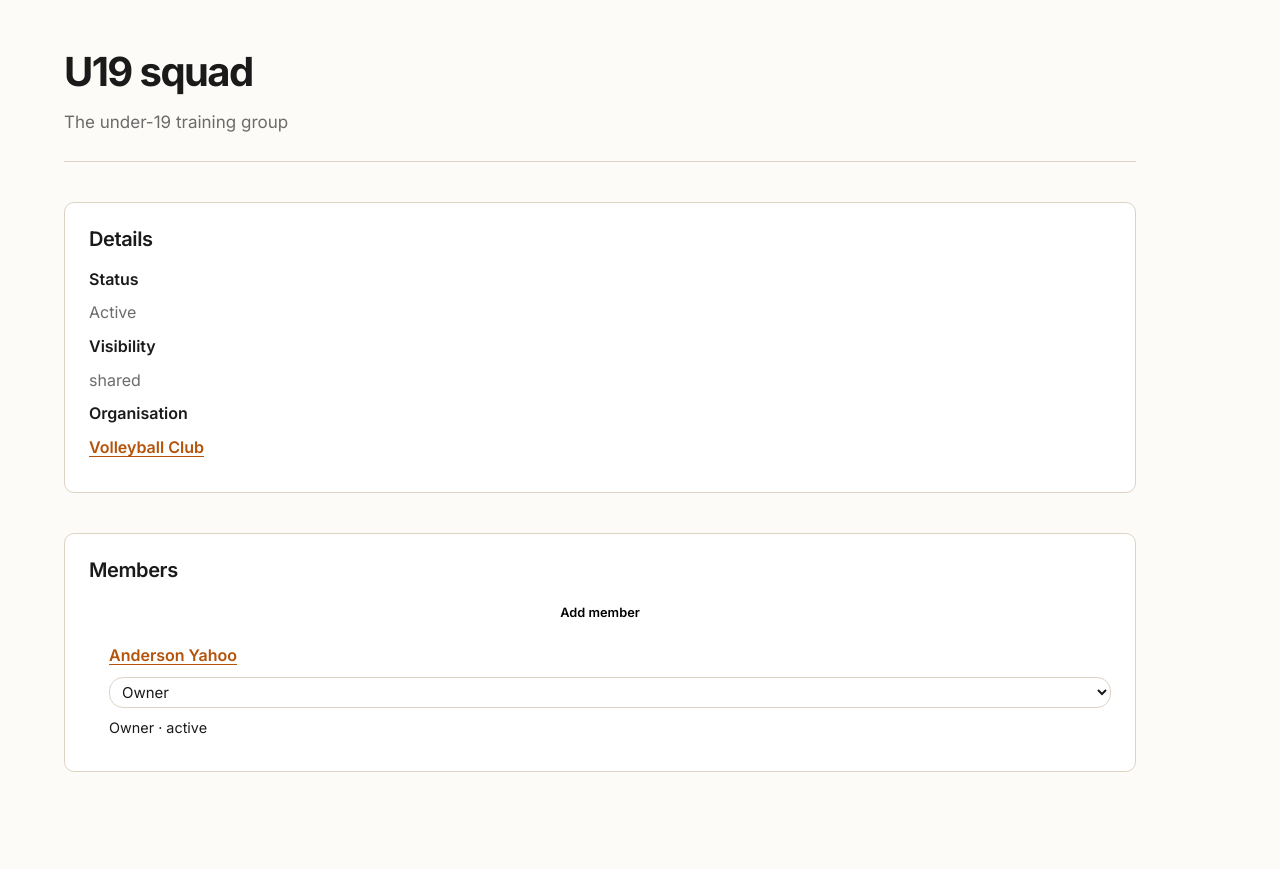
Test: GroupDetail members › searches the organisation roster and adds a member with the chosen role
The image size is (1280, 869).
Click the button "Add member". click: (600, 613)
box: x1=89 y1=598 x2=1111 y2=628
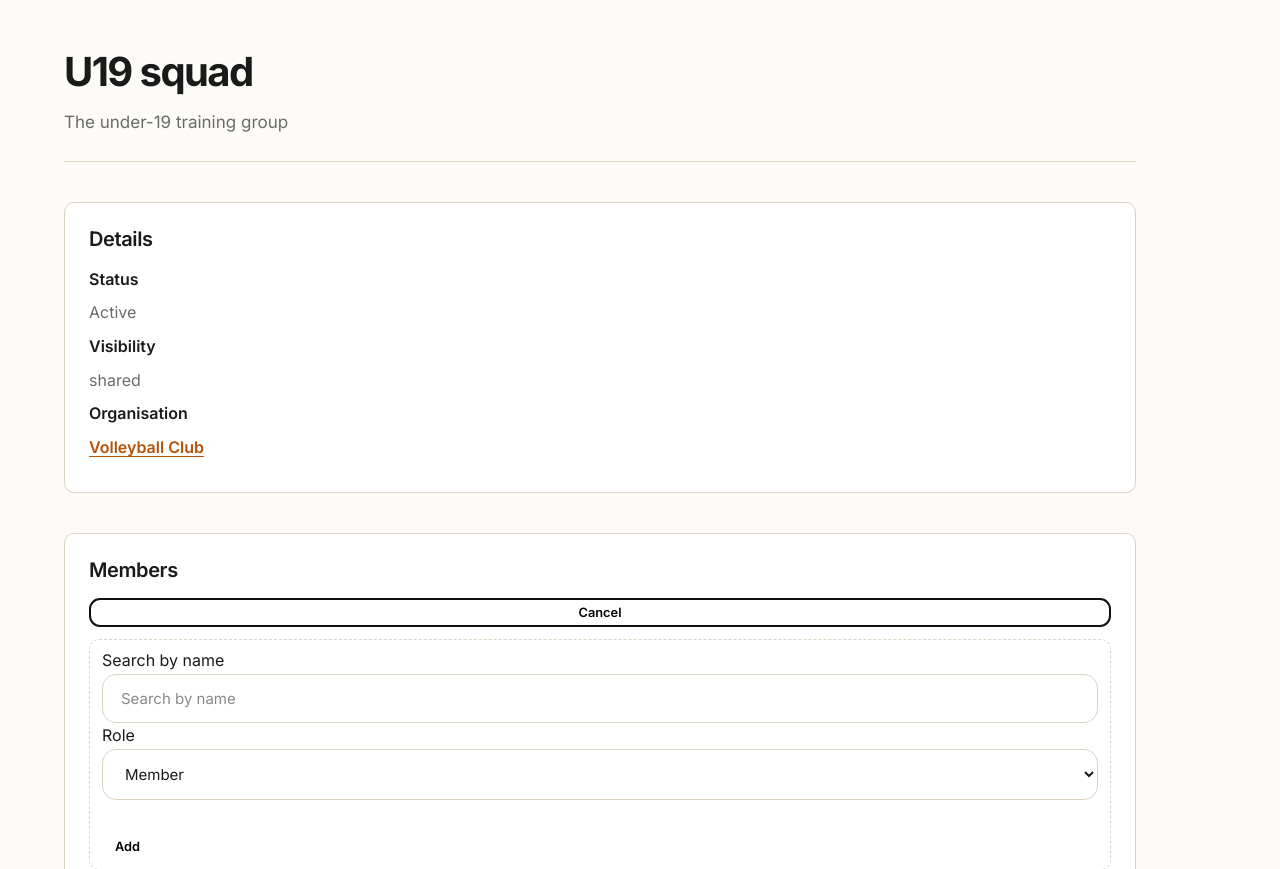
Type "Bru" into the field labelled "Search by name". click: (600, 698)
box: x1=102 y1=674 x2=1098 y2=723
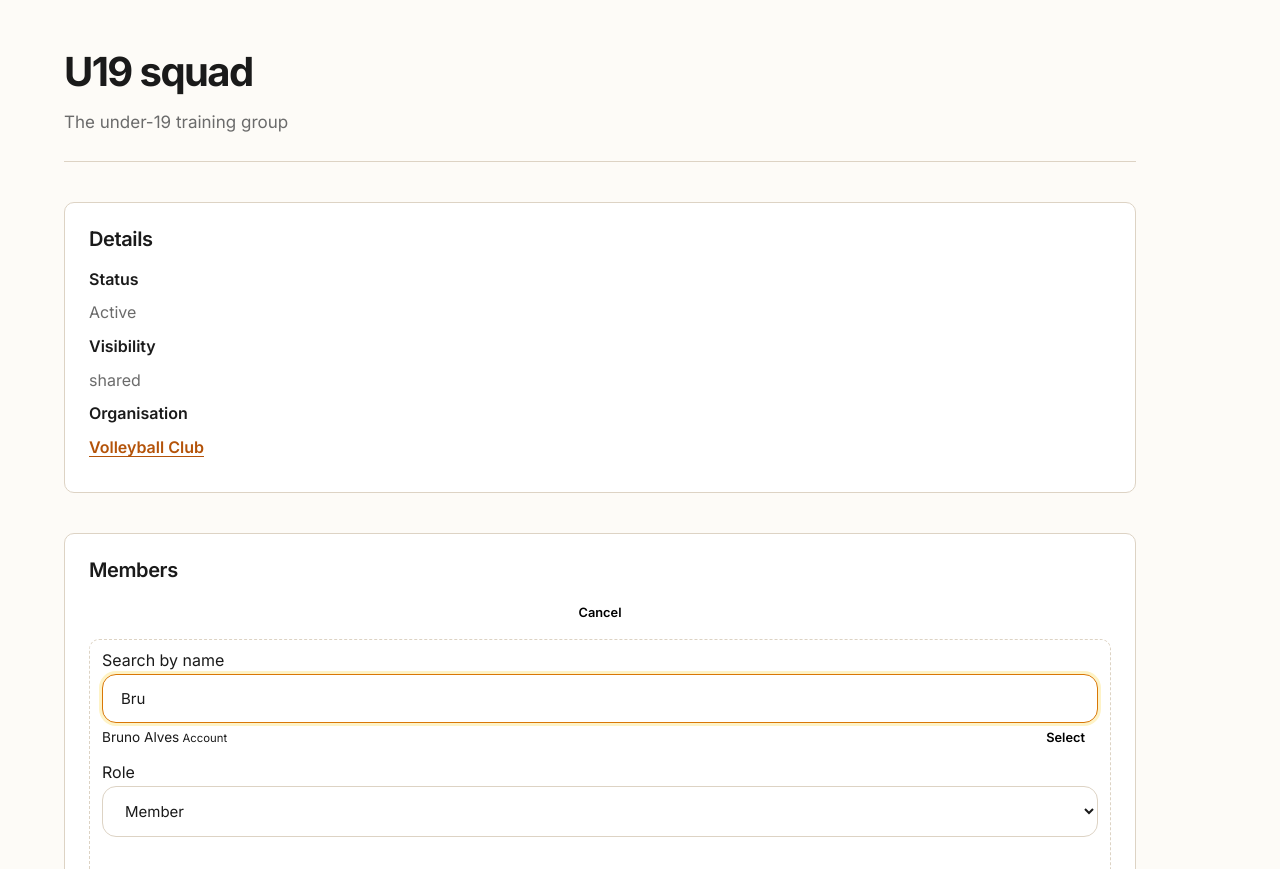
Click the button "Select". click: (1066, 738)
box: x1=1033 y1=723 x2=1098 y2=752
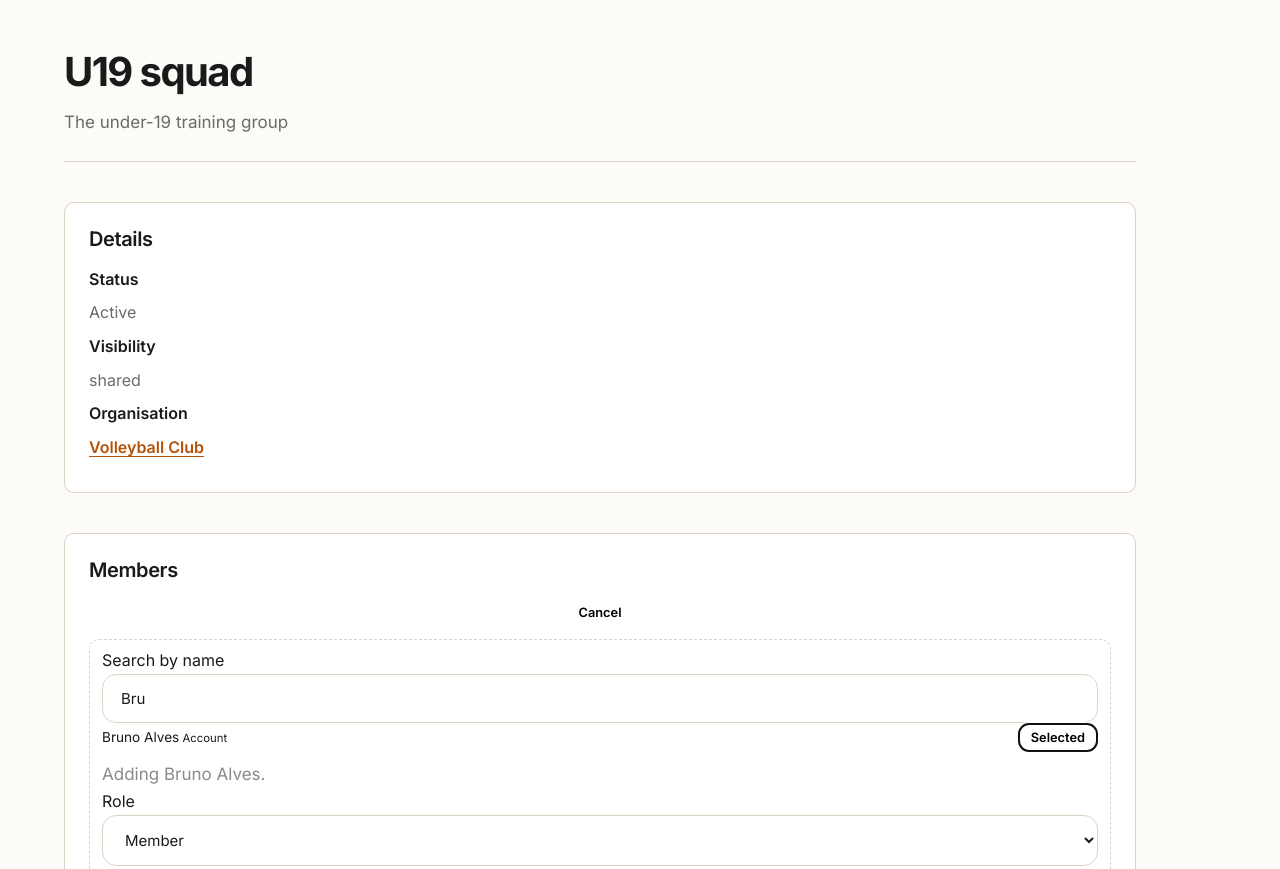
Select "Coach" in the dropdown labelled "Role". click: (600, 840)
box: x1=102 y1=814 x2=1098 y2=866
(page scrolled)
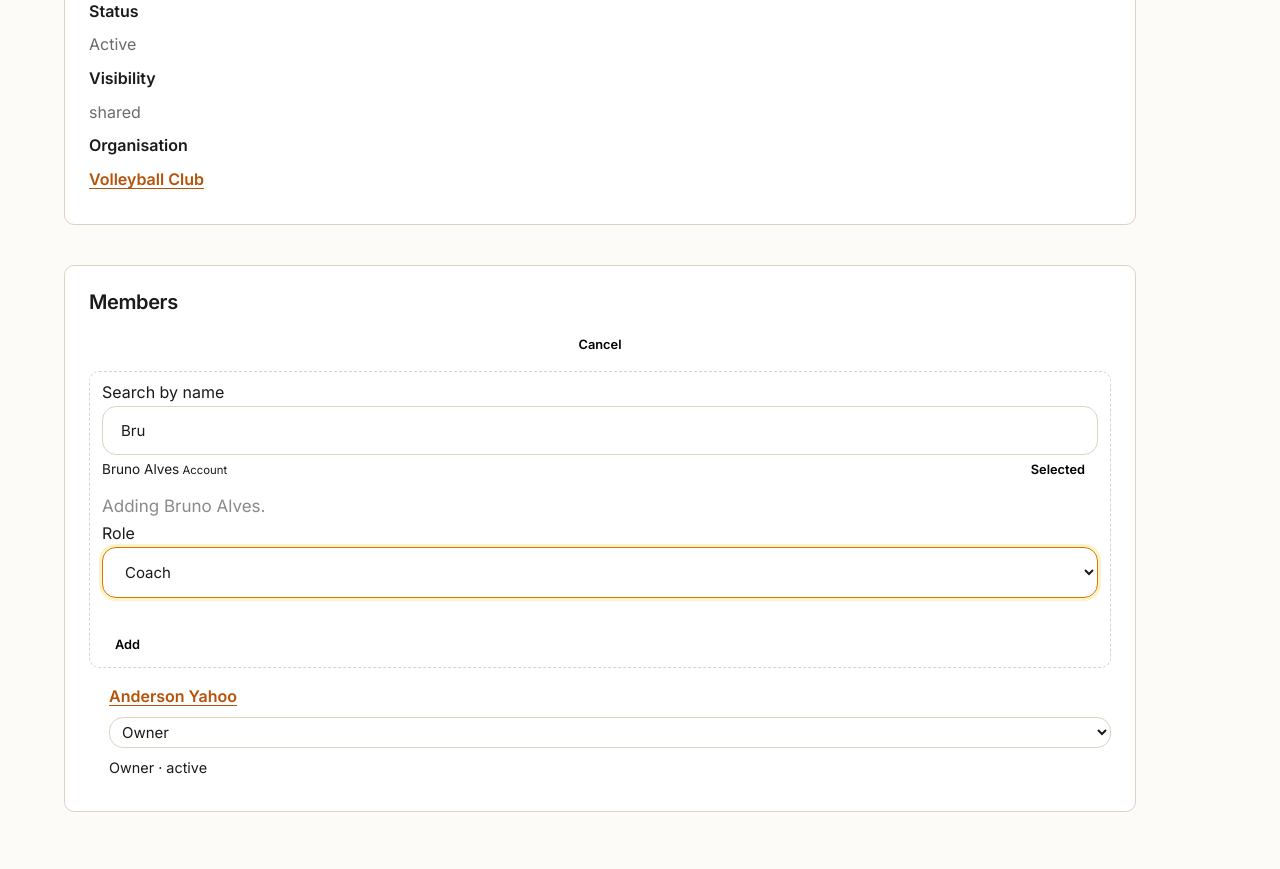
Click the button "Add". click: (128, 644)
box: x1=102 y1=630 x2=153 y2=658
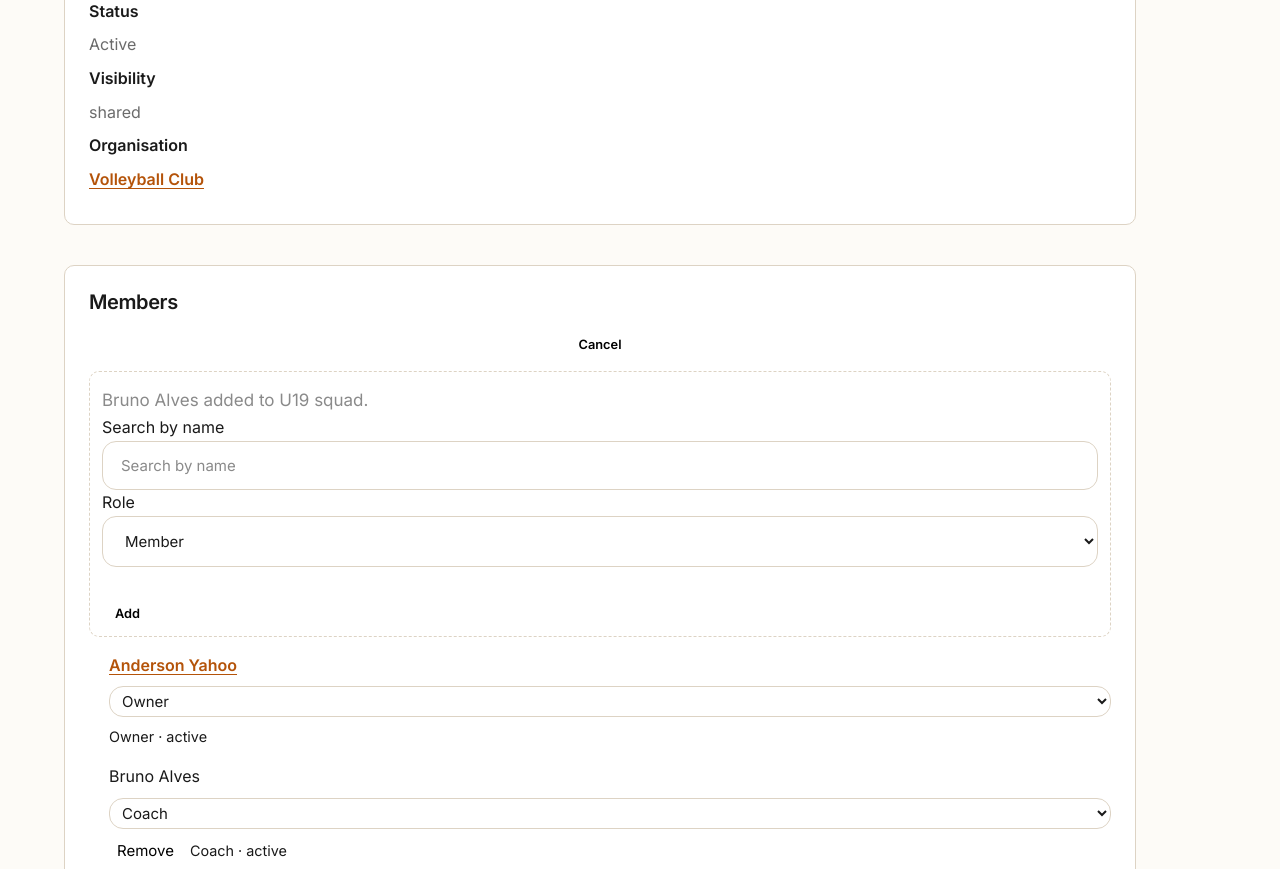
Now the text "Bruno Alves" is shown, box x1=109 y1=766 x2=200 y2=786
Now the message reads "Bruno Alves added to U19 squad.", box x1=102 y1=390 x2=368 y2=410
Now the text "Coach · active" is shown, box x1=190 y1=839 x2=287 y2=862
